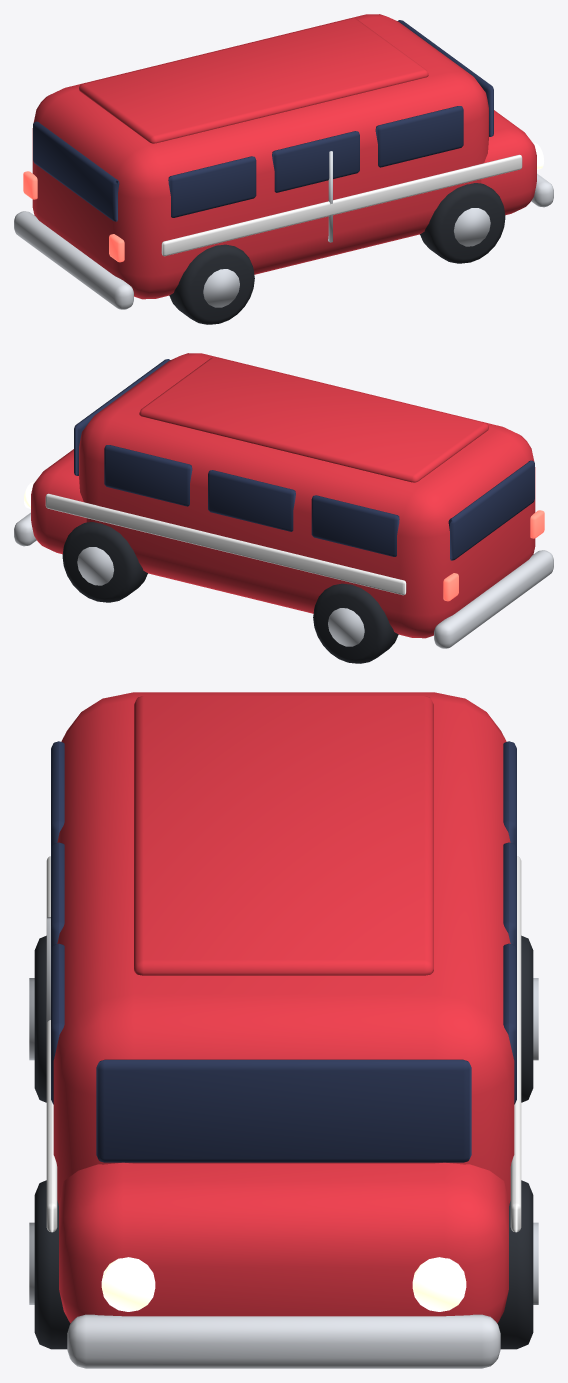
Rendered from van-DtU-z5h2.glb.
The picture shows the model from 3 angles, top to bottom: view 1: azimuth 30°, elevation 25°; view 2: azimuth 150°, elevation 25°; view 3: azimuth 270°, elevation 25°; orthographic projection. The views are drawn at different scales.
Visible parts, largest first — view 1: van; view 2: van; view 3: van.
Part boxes in pixels (left/top/right/bottom): van: left=14, top=14, right=553, bottom=324; van: left=14, top=353, right=553, bottom=663; van: left=29, top=692, right=538, bottom=1368.
Size of the model in its own units: 1.89 by 0.745 by 0.95.
